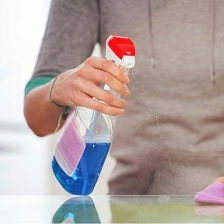cleaning_solution: (48, 30, 138, 203)
